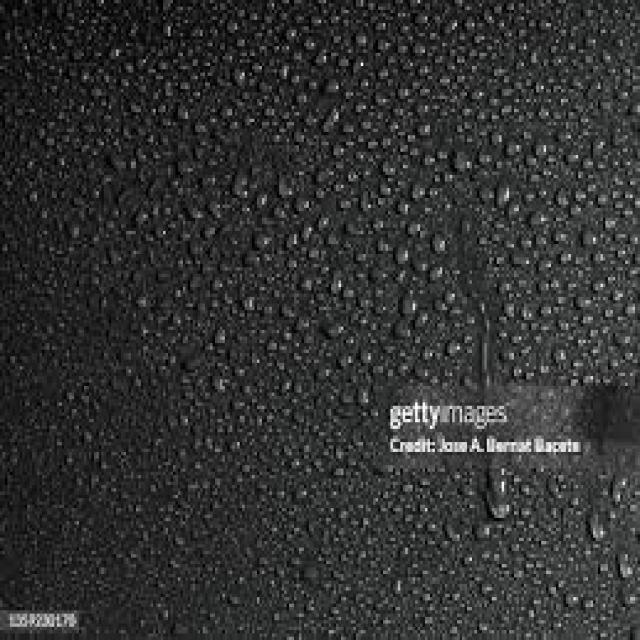raindrop: (480, 466, 525, 528), (315, 308, 348, 352), (493, 169, 516, 218), (62, 206, 92, 243), (408, 247, 440, 281), (398, 278, 426, 316), (580, 222, 607, 260), (528, 129, 554, 168), (587, 507, 613, 546), (509, 240, 541, 270), (411, 176, 438, 208), (422, 226, 454, 253), (248, 183, 273, 216), (503, 128, 527, 161), (230, 60, 256, 90), (390, 242, 412, 272)
